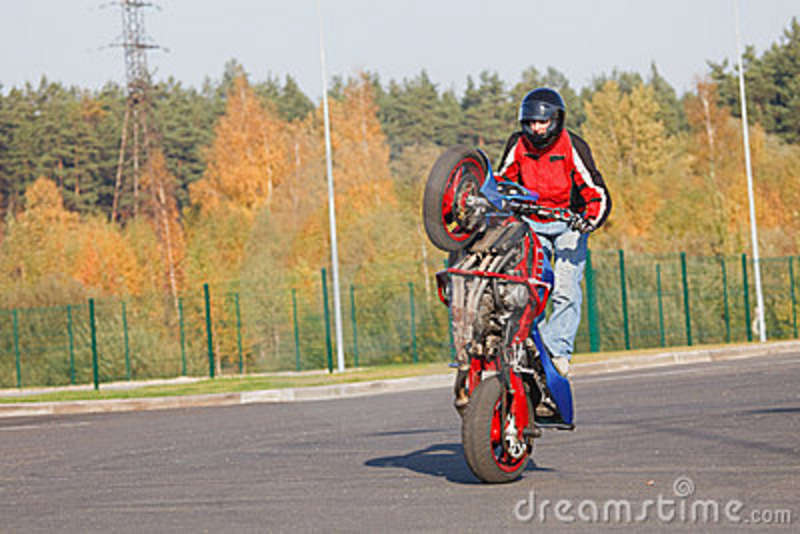helmet: (520, 92, 574, 149)
